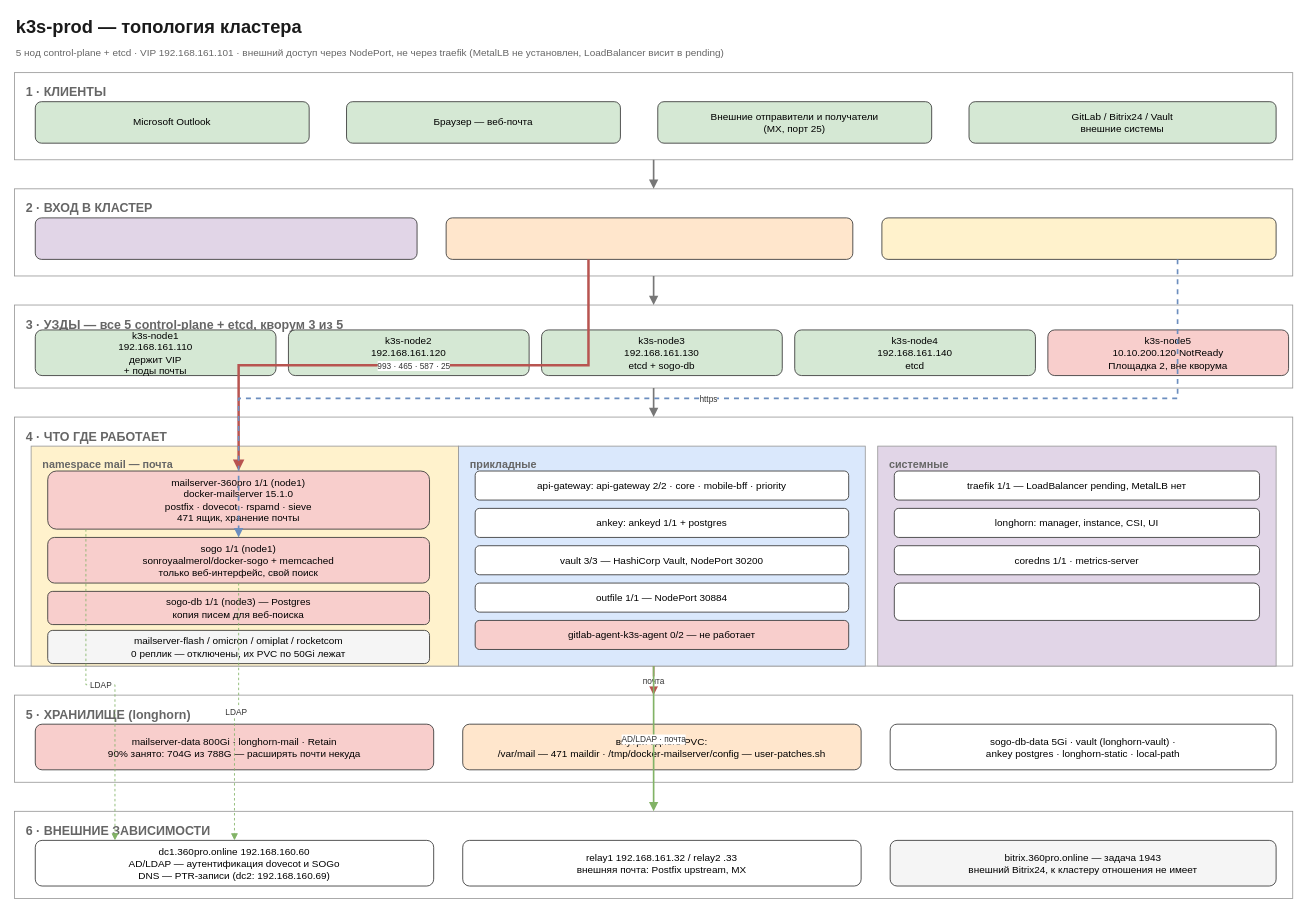
Image size: 1307x913. Some labels were removed from this diagram. The shapes that lost their labels are listed below. From the top down, each one's centre as x and y in pixels, then its label:
At point 225,238: "kube-vip 192.168.161.101 API server 6443 — сейчас на node1".
At point 649,238: "NodePort — почта идёт МИМО traefik 25:30025 465:30465 587:30587 993:30553".
At point 1078,238: "Ingress traefik mail. · gw01. 360pro.online · rocket.auth.local".
At point 1076,601: "etcd: кворум из node1–node4 выбытие 2 нод из 5 → etcd без кворума".
